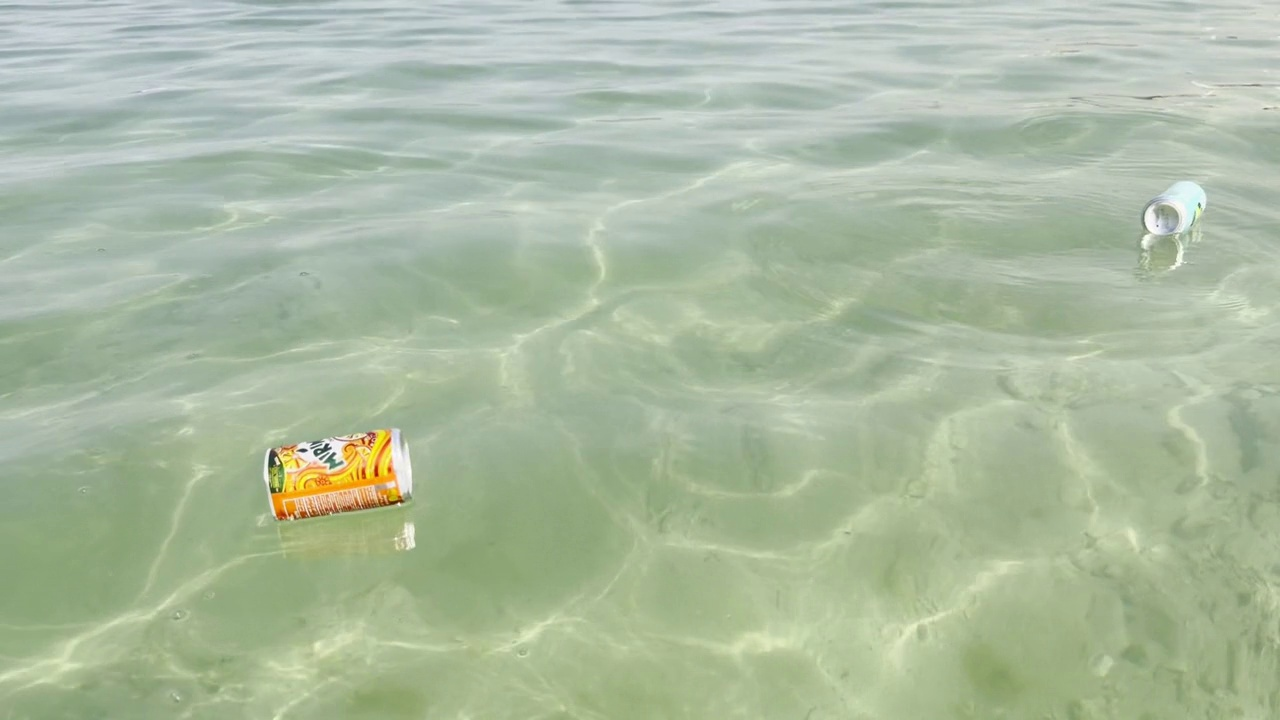debris: (253, 414, 431, 530), (1135, 173, 1213, 241)
